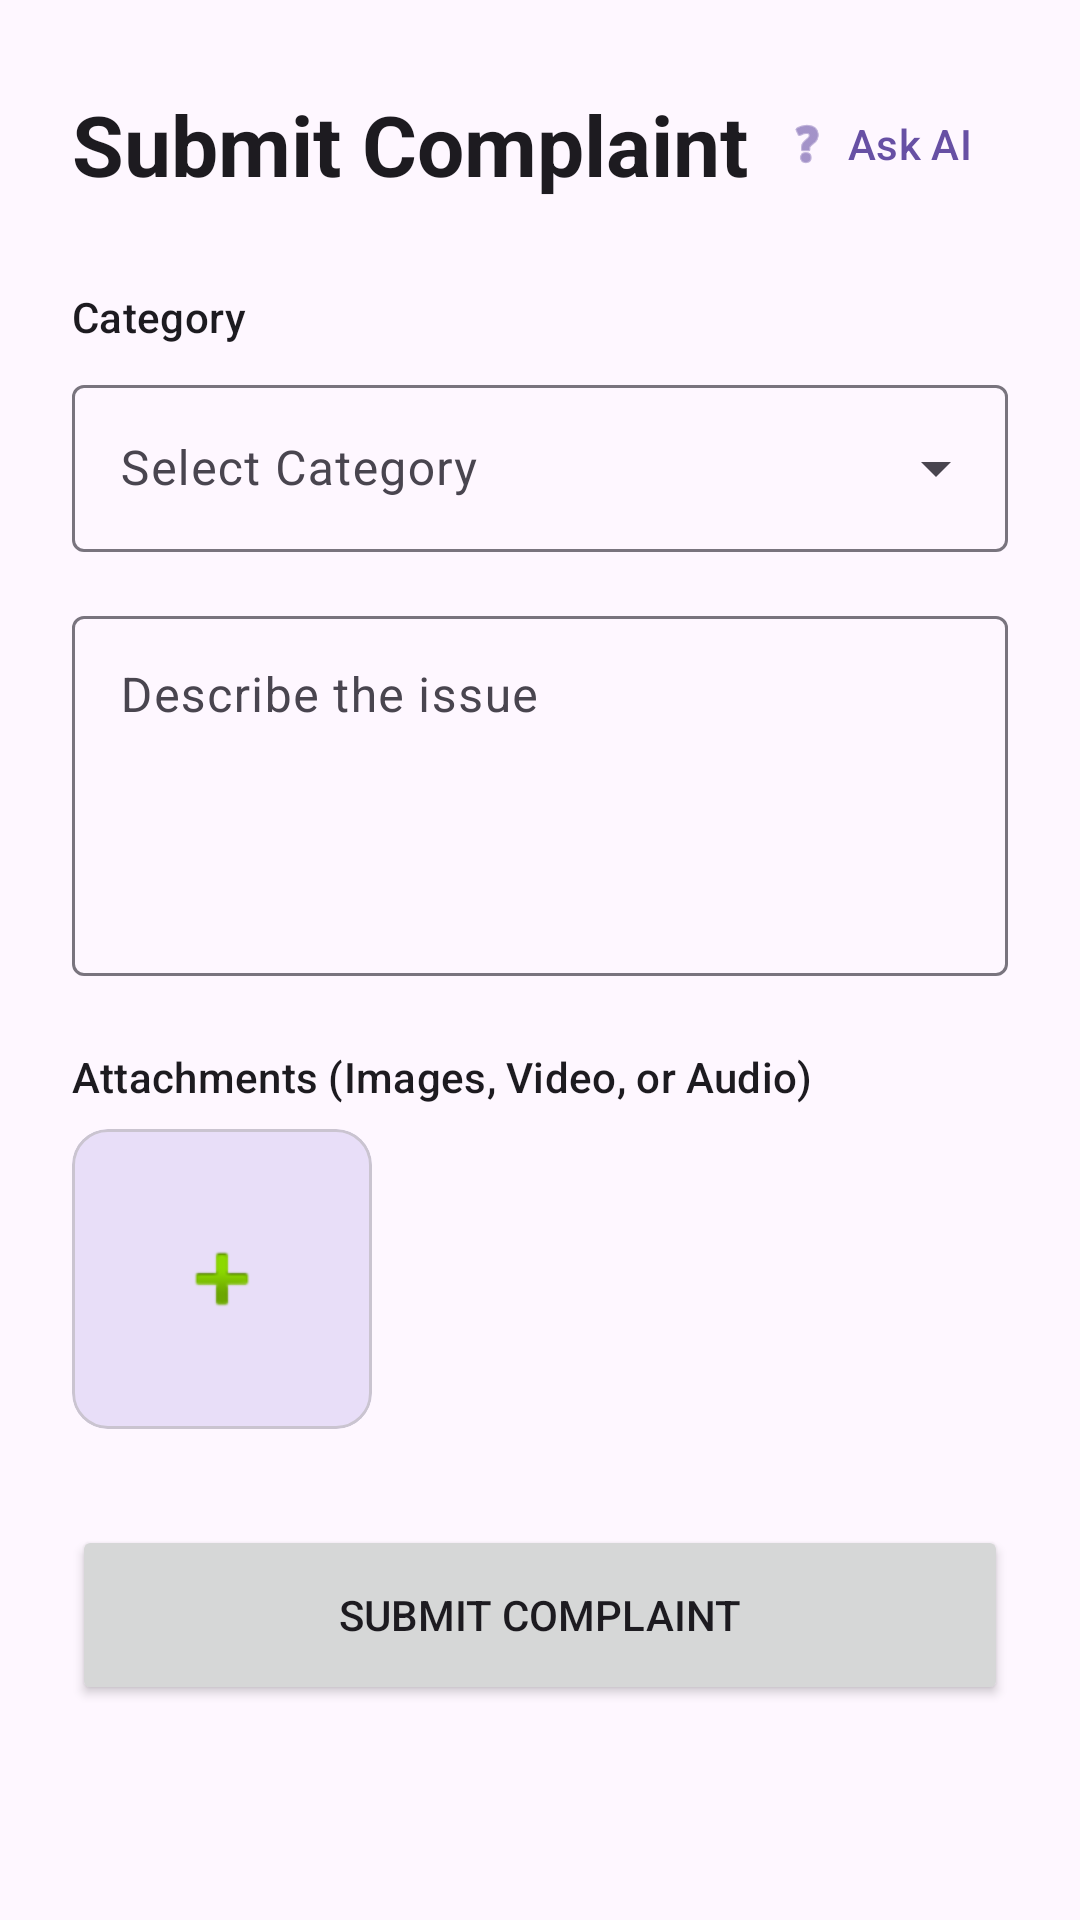

Locate icon controls on the screen. Image size 1080px×1920px, boxes as [left=x1, top=y1, right=x2, bottom=y2].
add: [left=195, top=1252, right=249, bottom=1306]
